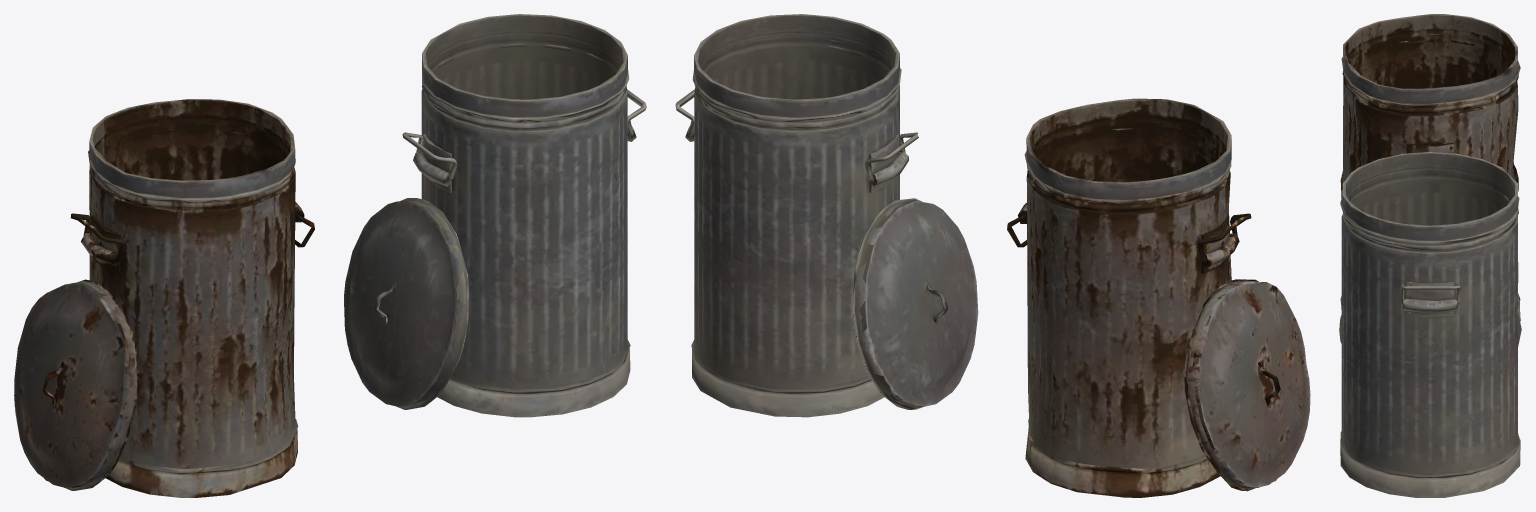
Rendered from metal-trash-can.lod1.glb.
3 renders of one model, left to right at view 1: azimuth 30°, elevation 25°; view 2: azimuth 150°, elevation 25°; view 3: azimuth 270°, elevation 25°, orthographic. The views are drawn at different scales.
Parts seen in each view (by area): view 1: metal_trash_can, metal_trash_can_rust, metal_trash_can_lid, metal_trash_can_rust_lid; view 2: metal_trash_can, metal_trash_can_rust, metal_trash_can_lid, metal_trash_can_rust_lid; view 3: metal_trash_can, metal_trash_can_rust, metal_trash_can_handle_right.
Boxes of the visible parts, x1,y1,x2,y2 form: metal_trash_can: (413,14,636,417); metal_trash_can_rust: (81,99,304,497); metal_trash_can_lid: (344,198,469,409); metal_trash_can_rust_lid: (14,279,137,490); metal_trash_can: (685,14,908,417); metal_trash_can_rust: (1018,98,1239,497); metal_trash_can_lid: (852,198,978,409); metal_trash_can_rust_lid: (1184,279,1310,491); metal_trash_can: (1340,152,1520,497); metal_trash_can_rust: (1340,14,1520,321); metal_trash_can_handle_right: (1400,284,1460,304).
Bounding box in the file's own units: 1.78 × 0.9062 × 0.5538.
2 materials, 2 textured.
